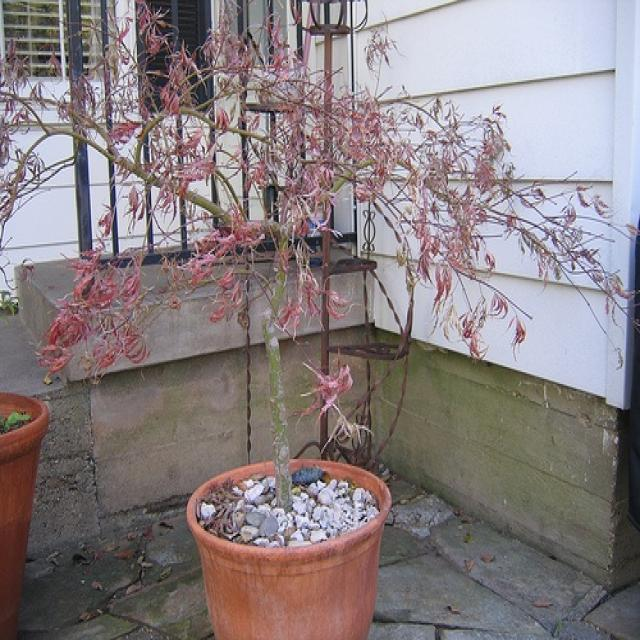pottedplant: (1, 4, 639, 638), (0, 389, 50, 638)
